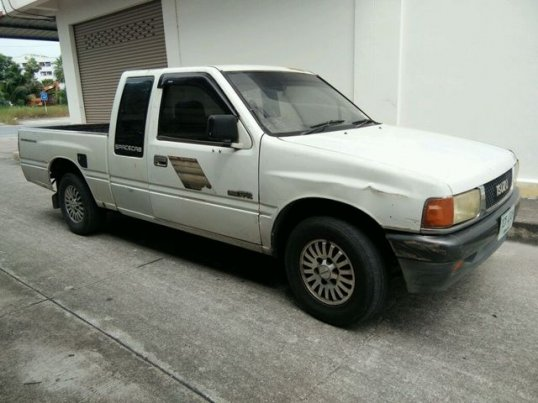pickup: (14, 62, 524, 329)
